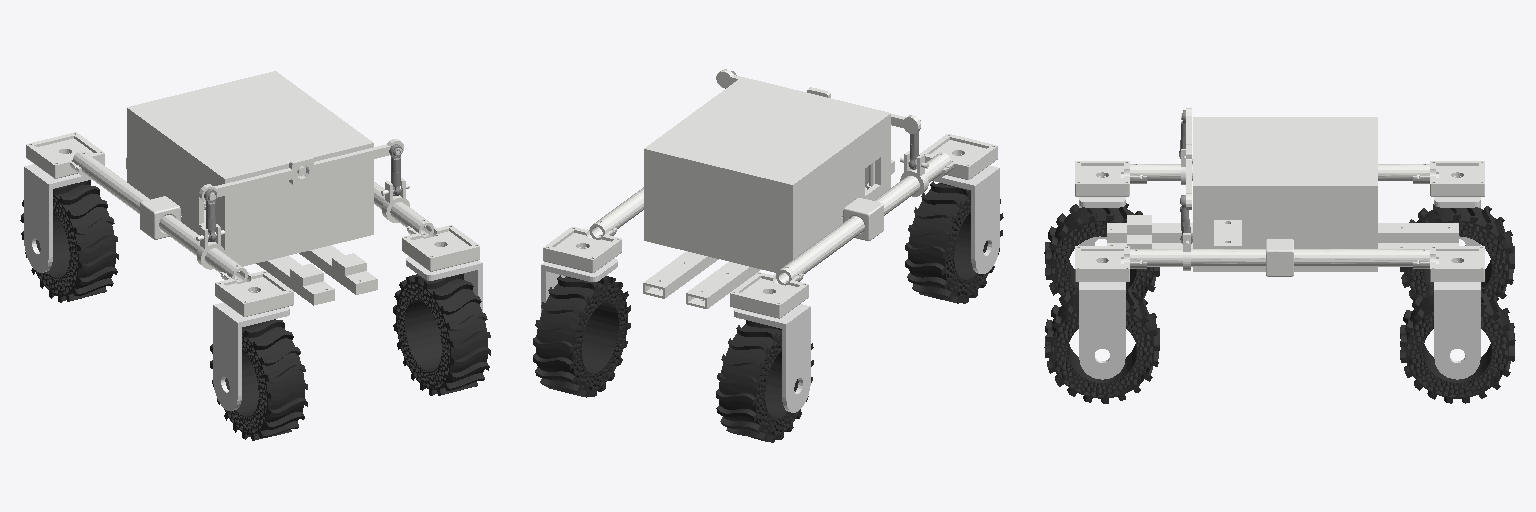
robot.urdf — rovermk2:
<?xml version="1.0" encoding="utf-8"?>
<robot name="rovermk2">

    <!-- Base Link  -->

    <link name="base_link">
        <inertial>
            <origin xyz="1.5107E-12 -0.010391 0.059342" rpy="0 0 0" />
            <mass value="3.9684" />
            <inertia ixx="0.068308" ixy="2.8787E-12" ixz="-8.8418E-14" iyy="0.03715"
                iyz="0.00010785" izz="0.091228" />
        </inertial>
        <visual>
            <origin xyz="0 0 0" rpy="0 0 0" />
            <geometry>
                <mesh filename="package://rovermk2_description/meshes/base_link.STL" />
            </geometry>
            <material name="">
                <color rgba="0.96471 0.96471 0.95294 1" />
            </material>
        </visual>
        <collision>
            <origin xyz="0 0 0" rpy="0 0 0" />
            <geometry>
                <mesh filename="package://rovermk2_description/meshes/base_link.STL" />
            </geometry>
        </collision>
    </link>

    <!-- Suspension Links -->

    <link name="suspension_left">
        <inertial>
            <origin xyz="-0.085081 0.00042119 -0.0073347" rpy="0 0 0" />
            <mass value="0.69456" />
            <inertia ixx="0.00041573" ixy="-1.6646E-10" ixz="-3.1978E-09" iyy="0.0014467"
                iyz="2.2187E-10" izz="0.0017365" />
        </inertial>
        <visual>
            <origin xyz="0 0 0" rpy="0 0 0" />
            <geometry>
                <mesh filename="package://rovermk2_description/meshes/suspension_1.STL" />
            </geometry>
            <material name="">
                <color rgba="0.96471 0.96471 0.95294 1" />
            </material>
        </visual>
        <collision>
            <origin xyz="0 0 0" rpy="0 0 0" />
            <geometry>
                <mesh filename="package://rovermk2_description/meshes/suspension_1.STL" />
            </geometry>
        </collision>
    </link>

    <link name="suspension_right">
        <inertial>
            <origin xyz="0.0048172 -0.047933 -0.0073349" rpy="0 0 0" />
            <mass value="0.69456" />
            <inertia ixx="0.00041573" ixy="-2.7089E-10" ixz="3.1961E-09" iyy="0.0014467"
                iyz="1.1348E-07" izz="0.0017365" />
        </inertial>
        <visual>
            <origin xyz="0 0 0" rpy="0 0 0" />
            <geometry>
                <mesh filename="package://rovermk2_description/meshes/suspension_2.STL" />
            </geometry>
            <material name="">
                <color rgba="0.96471 0.96471 0.95294 1" />
            </material>
        </visual>
        <collision>
            <origin xyz="0 0 0" rpy="0 0 0" />
            <geometry>
                <mesh filename="package://rovermk2_description/meshes/suspension_2.STL" />
            </geometry>
        </collision>
    </link>

    <!-- Suspension Joints Closed Loop thus with gazebo tags -->

    <joint name="susleft_joint" type="revolute">
        <origin xyz="-0.175 -0.1 0.043" rpy="0 0 -1.5708" />
        <parent link="base_link" />
        <child link="suspension_left" />
        <axis xyz="0 1 0" />
        <limit lower="-0.174" upper="0.174" effort="100" velocity="1" />
    </joint>

    <joint name="susright_joint" type="revolute">
        <origin xyz="0.2225 -0.01 0.043" rpy="0 1.7626E-05 -1.5708" />
        <parent link="base_link" />
        <child link="suspension_right" />
        <axis xyz="0 1 0" />
        <limit lower="-0.174" upper="0.174" effort="100" velocity="1" />
    </joint>


    <!-- Steer Joints and Links -->

    <!-- Steer Front Left Joint and Link -->

    <link name="steerFL">
        <inertial>
            <origin xyz="-2.2204E-15 -0.032335 -0.05247" rpy="0 0 0" />
            <mass value="0.1576" />
            <inertia ixx="0.00057382" ixy="7.8164E-19" ixz="1.4837E-18" iyy="0.00051647"
                iyz="-0.00013791" izz="0.00023455" />
        </inertial>
        <visual>
            <origin xyz="0 0 0" rpy="0 0 0" />
            <geometry>
                <mesh filename="package://rovermk2_description/meshes/Steer_FL_1.STL" />
            </geometry>
            <material name="">
                <color rgba="0.96078 0.96078 0.96471 1" />
            </material>
        </visual>
        <collision>
            <origin xyz="0 0 0" rpy="0 0 0" />
            <geometry>
                <mesh filename="package://rovermk2_description/meshes/Steer_FL_1.STL" />
            </geometry>
        </collision>
    </link>
    <joint name="steerFL_joint" type="continuous">
        <origin xyz="-0.3975 0 -0.035" rpy="0 0 0" />
        <parent link="suspension_left" />
        <child link="steerFL" />
        <axis xyz="0 0 1" />
        <!-- <limit lower="0" upper="0" effort="0" velocity="0"/> -->
    </joint>

    <!-- Steer Front Right Joint and Link -->

    <link name="steer_FR">
        <inertial>
            <origin xyz="-0.3075 0.025165 -0.08747" rpy="0 0 0" />
            <mass value="0.1576" />
            <inertia ixx="0.00057382" ixy="-5.4704E-17" ixz="-1.3425E-16" iyy="0.00051647"
                iyz="-0.00013791" izz="0.00023455" />
        </inertial>
        <visual>
            <origin xyz="0 0 0" rpy="0 0 0" />
            <geometry>
                <mesh filename="package://rovermk2_description/meshes/steer_FR.STL" />
            </geometry>
            <material name="">
                <color rgba="0.96078 0.96078 0.96471 1" />
            </material>
        </visual>
        <collision>
            <origin xyz="0 0 0" rpy="0 0 0" />
            <geometry>
                <mesh filename="package://rovermk2_description/meshes/steer_FR.STL" />
            </geometry>
        </collision>
    </link>
    <joint name="steerFR_joint" type="continuous">
        <origin xyz="0 0.01 0" rpy="0 0 3.1416" />
        <parent link="suspension_right" />
        <child link="steer_FR" />
        <axis xyz="5.9526E-05 0 1" />
        <!-- <limit lower="0" upper="0" effort="0" velocity="0"/> -->
    </joint>


    <!-- Steer Back Left Joint and Link -->

    <link name="steer_BL">
        <inertial>
            <origin xyz="-2.7756E-15 -0.032335 -0.05247" rpy="0 0 0" />
            <mass value="0.1576" />
            <inertia ixx="0.00057382" ixy="-9.7292E-20" ixz="-4.0506E-19" iyy="0.00051647"
                iyz="-0.00013791" izz="0.00023455" />
        </inertial>
        <visual>
            <origin xyz="0 0 0" rpy="0 0 0" />
            <geometry>
                <mesh filename="package://rovermk2_description/meshes/steer_BL.STL" />
            </geometry>
            <material name="">
                <color rgba="0.96078 0.96078 0.96471 1" />
            </material>
        </visual>
        <collision>
            <origin xyz="0 0 0" rpy="0 0 0" />
            <geometry>
                <mesh filename="package://rovermk2_description/meshes/steer_BL.STL" />
            </geometry>
        </collision>
    </link>
    <joint name="steerBL_joint" type="continuous">
        <origin xyz="0.2175 0 -0.035" rpy="0 0 0" />
        <parent link="suspension_left" />
        <child link="steer_BL" />
        <axis xyz="0 0 1" />
        <!-- <limit lower="0" upper="0" effort="0" velocity="0"/> -->
    </joint>

    <!-- Steer Back Right Joint and Link-->

    <link name="steer_BR">
        <inertial>
            <origin xyz="-0.30751 0.021928 -0.087669" rpy="0 0 0" />
            <mass value="0.1576" />
            <inertia ixx="0.00057382" ixy="-5.2157E-17" ixz="-1.2839E-16" iyy="0.00051647"
                iyz="-0.00013791" izz="0.00023455" />
        </inertial>
        <visual>
            <origin xyz="0 0 0" rpy="0 0 0" />
            <geometry>
                <mesh filename="package://rovermk2_description/meshes/steer_BR.STL" />
            </geometry>
            <material name="">
                <color rgba="0.96078 0.96078 0.96471 1" />
            </material>
        </visual>
        <collision>
            <origin xyz="0 0 0" rpy="0 0 0" />
            <geometry>
                <mesh filename="package://rovermk2_description/meshes/steer_BR.STL" />
            </geometry>
        </collision>
    </link>
    <joint name="steerBR_joint" type="continuous">
        <origin xyz="0 0.0067628 0.00019885" rpy="0 0 3.1416" />
        <parent link="suspension_right" />
        <child link="steer_BR" />
        <axis xyz="5.9526E-05 0 1" />
        <!-- <limit lower="0" upper="0" effort="0" velocity="0"/> -->
    </joint>

    <!-- Differential Joints and Links -->

    <link name="differential">
        <inertial>
            <origin xyz="-1.1102E-16 0.0046881 0" rpy="0 0 0" />
            <mass value="0.072511" />
            <inertia ixx="4.5251E-06" ixy="1.9338E-20" ixz="5.9027E-19" iyy="0.00094731"
                iyz="2.9892E-21" izz="0.00094443" />
        </inertial>
        <visual>
            <origin xyz="0 0 0" rpy="0 0 0" />
            <geometry>
                <mesh filename="package://rovermk2_description/meshes/diffrential.STL" />
            </geometry>
            <material name="">
                <color rgba="0.96471 0.96471 0.95294 1" />
            </material>
        </visual>
        <collision>
            <origin xyz="0 0 0" rpy="0 0 0" />
            <geometry>
                <mesh filename="package://rovermk2_description/meshes/diffrential.STL" />
            </geometry>
        </collision>
    </link>
    <joint name="differential_joint" type="revolute">
        <origin xyz="0 -0.172 0.15" rpy="0 -0.0009328 0" />
        <parent link="base_link" />
        <child link="differential" />
        <axis xyz="0 -1 0" />
        <limit lower="-0.174" upper="0.174" effort="100" velocity="1" />
    </joint>
    <link name="diff_left">
        <inertial>
            <origin xyz="-2.0403E-08 -0.017 -2.0403E-08" rpy="0 0 0" />
            <mass value="0.013668" />
            <inertia ixx="1.9282E-06" ixy="3.6228E-11" ixz="-1.5917E-12" iyy="4.9695E-07"
                iyz="-3.6228E-11" izz="1.9282E-06" />
        </inertial>
        <visual>
            <origin xyz="0 0 0" rpy="0 0 0" />
            <geometry>
                <mesh filename="package://rovermk2_description/meshes/diff_1.STL" />
            </geometry>
            <material name="">
                <color rgba="0.62745 0.62745 0.62745 1" />
            </material>
        </visual>
        <collision>
            <origin xyz="0 0 0" rpy="0 0 0" />
            <geometry>
                <mesh filename="package://rovermk2_description/meshes/diff_1.STL" />
            </geometry>
        </collision>
    </link>
    <joint name="diff_left_joint" type="revolute">
        <origin xyz="-0.17505 -0.0024 -0.053" rpy="-1.5717 0 -1.5708" />
        <parent link="differential" />
        <child link="diff_left" />
        <axis xyz="0 0 1" />
        <limit lower="-0.174" upper="0.174" effort="100" velocity="1" />
    </joint>
    <link name="diff_right">
        <inertial>
            <origin xyz="-2.2451E-08 -0.017 -2.0294E-08" rpy="0 0 0" />
            <mass value="0.013668" />
            <inertia ixx="1.9282E-06" ixy="3.5723E-11" ixz="-1.1021E-12" iyy="4.9695E-07"
                iyz="-3.5961E-11" izz="1.9282E-06" />
        </inertial>
        <visual>
            <origin xyz="0 0 0" rpy="0 0 0" />
            <geometry>
                <mesh filename="package://rovermk2_description/meshes/diff_2.STL" />
            </geometry>
            <material name="">
                <color rgba="0.62745 0.62745 0.62745 1" />
            </material>
        </visual>
        <collision>
            <origin xyz="0 0 0" rpy="0 0 0" />
            <geometry>
                <mesh filename="package://rovermk2_description/meshes/diff_2.STL" />
            </geometry>
        </collision>
    </link>
    <joint name="diff_right_joint" type="revolute">
        <origin xyz="0.17319 -0.00078377 -0.053409" rpy="-1.6026 -0.074146 1.5732" />
        <parent link="differential" />
        <child link="diff_right" />
        <axis xyz="-1.1525E-05 0.00012878 1" />
        <limit lower="-0.174" upper="0.174" effort="100" velocity="1" />
    </joint>


    <!-- All Wheels Joints and Links -->

    <link name="wheelFL">
        <inertial>
            <origin xyz="-1.2482E-05 1.1067E-05 -9.9464E-06" rpy="0 0 0" />
            <mass value="0.57698" />
            <inertia ixx="0.0021487" ixy="-1.7024E-08" ixz="-8.7398E-08" iyy="0.0038235"
                iyz="8.3831E-09" izz="0.0021487" />
        </inertial>
        <visual>
            <origin xyz="0 0 0" rpy="0 0 0" />
            <geometry>
                <mesh filename="package://rovermk2_description/meshes/wheelFL.STL" />
            </geometry>
            <material name="">
                <color rgba="0.24706 0.24706 0.24706 1" />
            </material>
        </visual>
        <collision>
            <origin xyz="0 0 0" rpy="0 0 0" />
            <geometry>
                <mesh filename="package://rovermk2_description/meshes/wheelFL.STL" />
            </geometry>
        </collision>
    </link>
    <joint name="wheelFL_joint" type="continuous">
        <origin xyz="0 0.008 -0.127" rpy="0 -0.031506 3.1416" />
        <parent link="steerFL" />
        <child link="wheelFL" />
        <axis xyz="0 -1 0" />
        <!-- <limit lower="0" upper="0" effort="0" velocity="0"/> -->
    </joint>

    <link name="wheelBL">
        <inertial>
            <origin xyz="-1.4946E-05 8.1816E-06 -7.8177E-06" rpy="0 0 0" />
            <mass value="0.57701" />
            <inertia ixx="0.0021482" ixy="-3.9981E-08" ixz="-7.3417E-08" iyy="0.0038226"
                iyz="-2.1036E-08" izz="0.0021482" />
        </inertial>
        <visual>
            <origin xyz="0 0 0" rpy="0 0 0" />
            <geometry>
                <mesh filename="package://rovermk2_description/meshes/wheelBL.STL" />
            </geometry>
            <material name="">
                <color rgba="0.24706 0.24706 0.24706 1" />
            </material>
        </visual>
        <collision>
            <origin xyz="0 0 0" rpy="0 0 0" />
            <geometry>
                <mesh filename="package://rovermk2_description/meshes/wheelBL.STL" />
            </geometry>
        </collision>
    </link>
    <joint name="wheelBL_joint" type="continuous">
        <origin xyz="0 0.008 -0.127" rpy="0 -0.19461 3.1416" />
        <parent link="steer_BL" />
        <child link="wheelBL" />
        <axis xyz="0 -1 0" />
        <!-- <limit lower="0" upper="0" effort="0" velocity="0"/> -->
    </joint>
    <link name="wheelFR">
        <inertial>
            <origin xyz="-1.5082E-05 8.1816E-06 -6.5794E-06" rpy="0 0 0" />
            <mass value="0.57701" />
            <inertia ixx="0.0021486" ixy="-4.1925E-08" ixz="-2.4022E-08" iyy="0.0038235"
                iyz="-1.3635E-08" izz="0.0021489" />
        </inertial>
        <visual>
            <origin xyz="0 0 0" rpy="0 0 0" />
            <geometry>
                <mesh filename="package://rovermk2_description/meshes/wheelFR.STL" />
            </geometry>
            <material name="">
                <color rgba="0.24706 0.24706 0.24706 1" />
            </material>
        </visual>
        <collision>
            <origin xyz="0 0 0" rpy="0 0 0" />
            <geometry>
                <mesh filename="package://rovermk2_description/meshes/wheelFR.STL" />
            </geometry>
        </collision>
    </link>
    <joint name="wheelFR_joint" type="continuous">
        <origin xyz="0.3075 0.0555 -0.162" rpy="0 -0.48916 0" />
        <parent link="steer_FR" />
        <child link="wheelFR" />
        <axis xyz="0 -1 0" />
        <!-- <limit lower="0" upper="0" effort="0" velocity="0"/> -->
    </joint>
    <link name="wheelBR">
        <inertial>
            <origin xyz="-1.3322E-05 9.8794E-06 -8.7944E-06" rpy="0 0 0" />
            <mass value="0.577" />
            <inertia ixx="0.0021487" ixy="-1.7024E-08" ixz="-8.7398E-08" iyy="0.0038235"
                iyz="8.3831E-09" izz="0.0021487" />
        </inertial>
        <visual>
            <origin xyz="0 0 0" rpy="0 0 0" />
            <geometry>
                <mesh filename="package://rovermk2_description/meshes/wheelBR.STL" />
            </geometry>
            <material name="">
                <color rgba="0.24706 0.24706 0.24706 1" />
            </material>
        </visual>
        <collision>
            <origin xyz="0 0 0" rpy="0 0 0" />
            <geometry>
                <mesh filename="package://rovermk2_description/meshes/wheelBR.STL" />
            </geometry>
        </collision>
    </link>
    <joint name="wheelBR_joint" type="continuous">
        <origin xyz="-0.30751 0.052263 -0.1622" rpy="0 -0.069204 0" />
        <parent link="steer_BR" />
        <child link="wheelBR" />
        <axis xyz="0 -1 0" />
        <!-- <limit lower="0" upper="0" effort="0" velocity="0"/> -->
    </joint>

</robot>

--- Render facts (derived) ---
3 views of the same robot in one strip: view 1: azimuth 30°, elevation 25°; view 2: azimuth 150°, elevation 25°; view 3: azimuth 270°, elevation 25° (orthographic).
Model rovermk2 with 14 links and 13 joints (5 revolute, 8 continuous), rooted at base_link, posed all joints at 0.
Links seen in each view (by area): view 1: base_link, suspension_left, wheelBR, wheelBL, wheelFL, suspension_right, steer_BL, steerFL, differential, steer_BR; view 2: base_link, suspension_left, wheelFR, wheelBL, wheelFL, suspension_right, steerFL, steer_BL, steer_FR, differential; view 3: base_link, suspension_right, wheelFR, wheelBR, suspension_left, wheelFL, wheelBL, steer_FR, steer_BR, steer_BL, differential, steerFL.
Link boxes in pixels (x1,y1,x2,y2): base_link: (126, 71, 377, 305); suspension_left: (26, 132, 293, 316); wheelBR: (393, 274, 490, 395); wheelBL: (210, 319, 307, 440); wheelFL: (20, 180, 118, 302); suspension_right: (374, 178, 479, 271); steer_BL: (213, 302, 289, 410); steerFL: (24, 164, 91, 272); differential: (199, 139, 403, 202); steer_BR: (406, 257, 482, 311); base_link: (643, 77, 894, 308); suspension_left: (730, 134, 997, 318); wheelFR: (533, 275, 630, 397); wheelBL: (905, 181, 1003, 303); wheelFL: (716, 320, 813, 442); suspension_right: (543, 187, 643, 272); steerFL: (734, 304, 810, 412); steer_BL: (933, 165, 999, 273); steer_FR: (541, 258, 617, 312); differential: (716, 69, 920, 133); base_link: (1107, 117, 1458, 271); suspension_right: (1075, 233, 1484, 281); wheelFR: (1400, 287, 1515, 403); wheelBR: (1044, 287, 1159, 403); suspension_left: (1075, 149, 1484, 196); wheelFL: (1400, 204, 1514, 300); wheelBL: (1044, 203, 1159, 304); steer_FR: (1434, 282, 1480, 379); steer_BR: (1079, 282, 1125, 379); steer_BL: (1079, 197, 1125, 245); differential: (1181, 108, 1191, 209); steerFL: (1434, 197, 1480, 245).
Size in the robot's own frame: 0.46 by 0.8158 by 0.3895 metres.
Meshes: 14 distinct files referenced, 14 mesh visuals loaded (14 binary STL).
